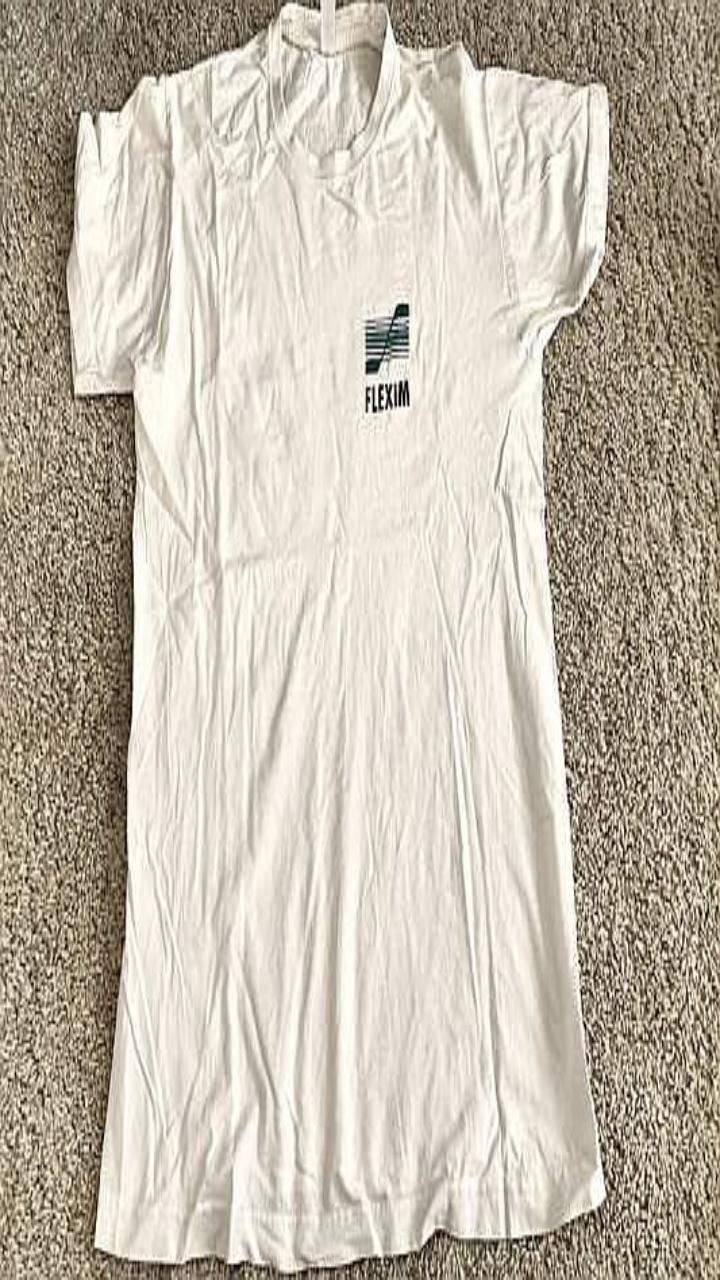T-Shirt: (66, 0, 608, 1270)
